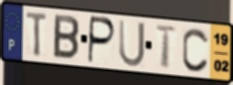B: (52, 12, 81, 62)
C: (181, 26, 210, 74)
P: (86, 15, 117, 66)
T: (154, 23, 179, 71), (25, 10, 49, 58)
U: (118, 18, 147, 69)
